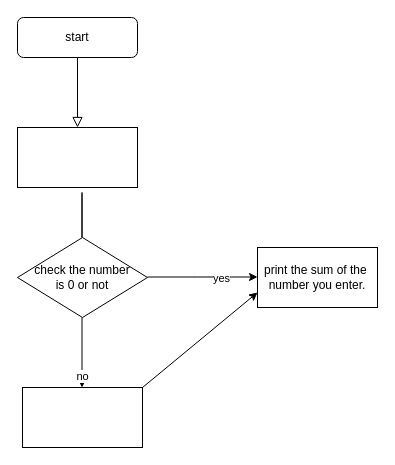
Some shapes in this 395 by 465 pixel diagram are drawn without their labels. Each missing label, with the centre of its shape:
"continue enter" belongs at pixel 82 417.
"enter the number" belongs at pixel 77 157.
